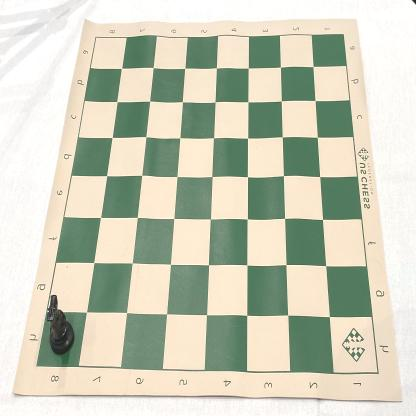black-knight: (47, 294, 75, 356)
